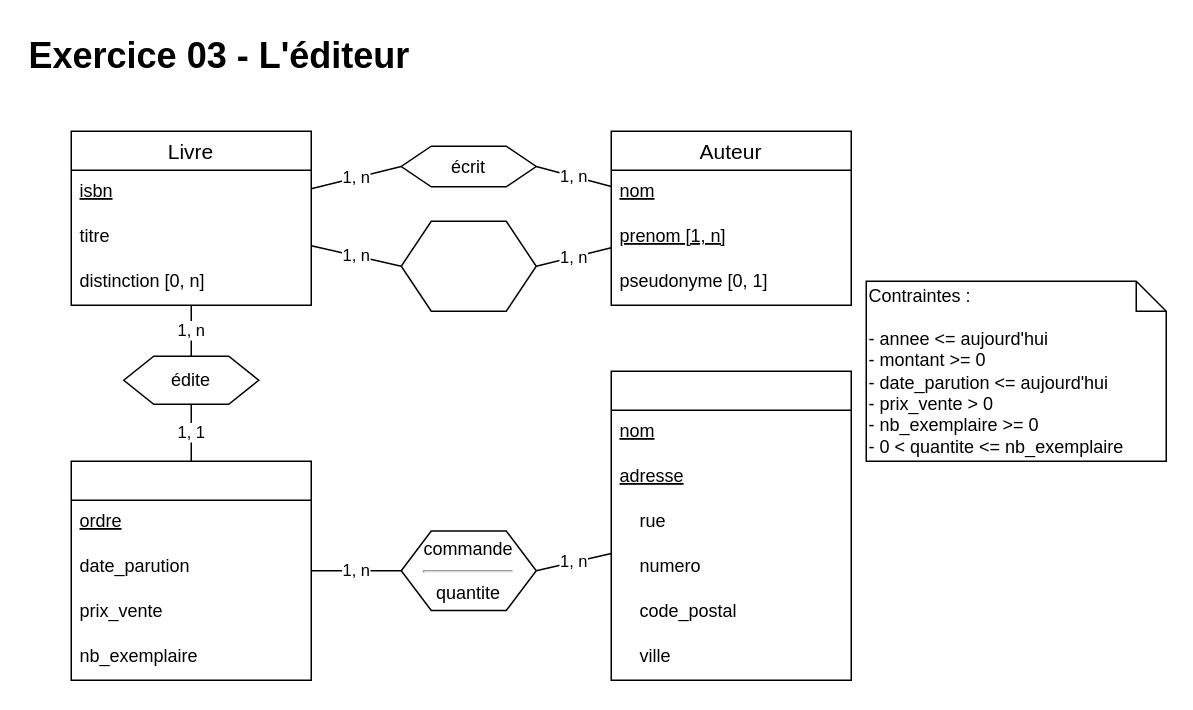
Image size: 1193x710. Some labels were removed from this diagram. Here are the shapes that lost their labels. From the top down, the box of each, then its label:
(400, 220, 536, 311): perçoit annee montant
(610, 370, 851, 680): Librairie
(70, 460, 311, 680): Edition
